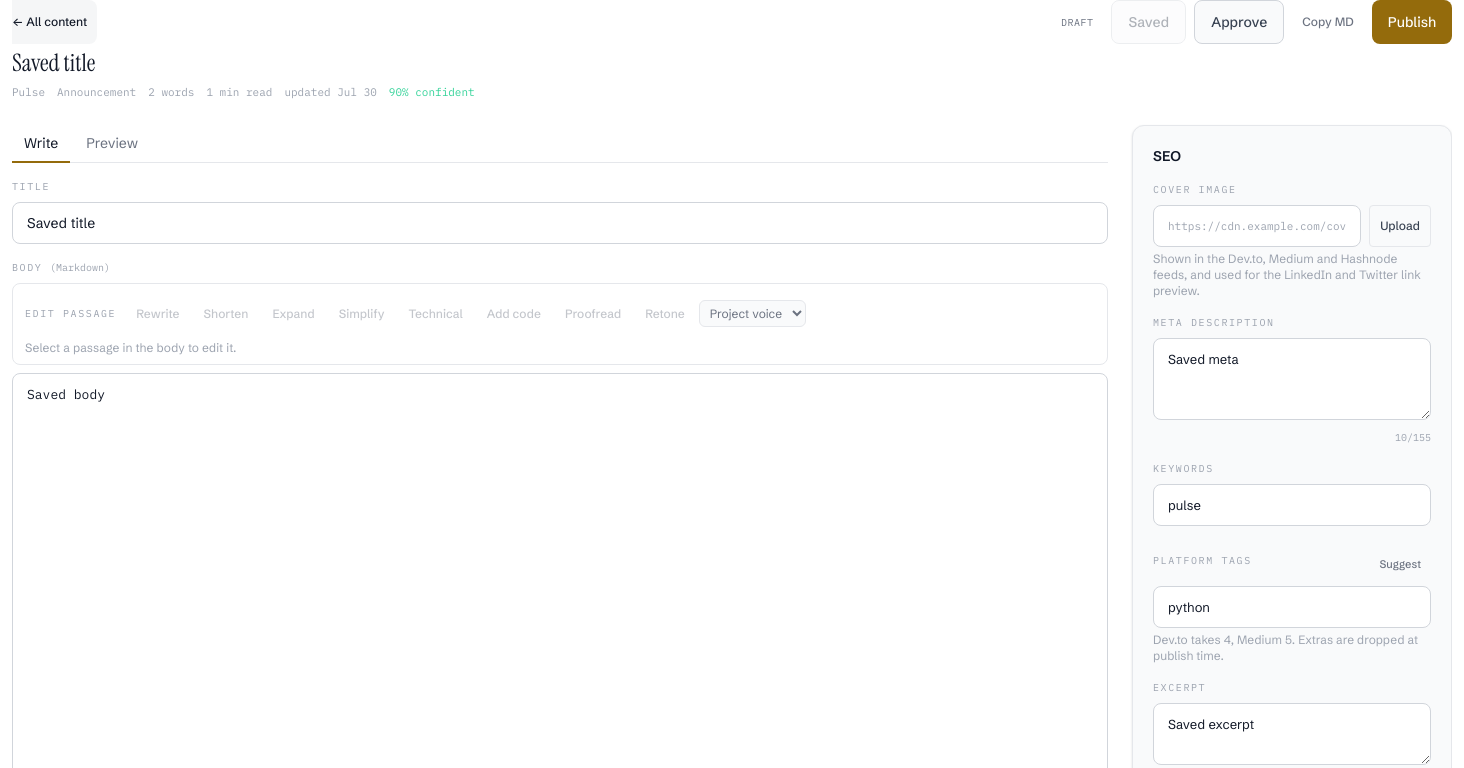
Test: recovering unsaved work › after a background refresh › keeps mirroring what is typed after it
Type "!" into the field labelled "Title".
click(560, 222); type("!")  # box [12,202,1108,244]
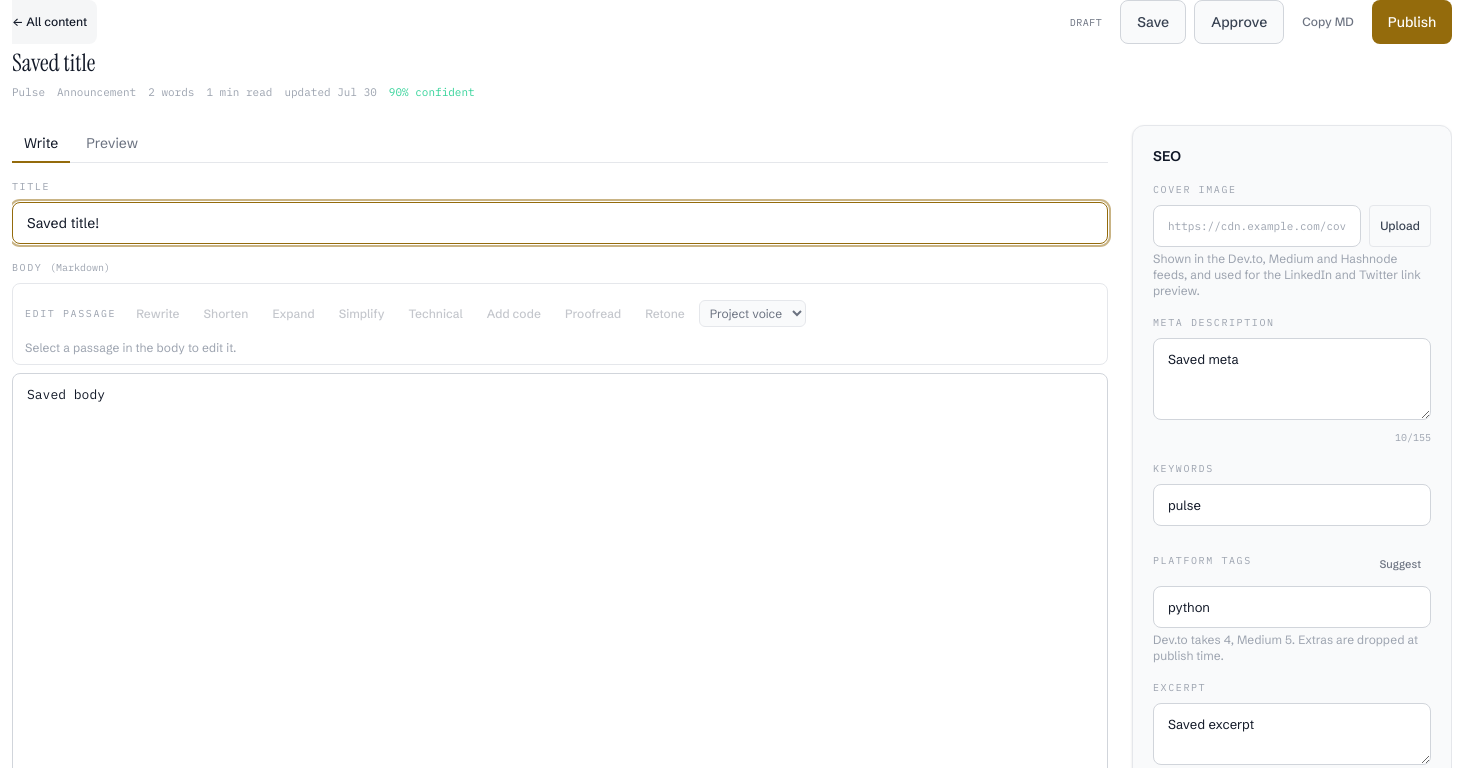
Click the button "Approve".
click(1239, 22)  # box [1194,0,1284,44]
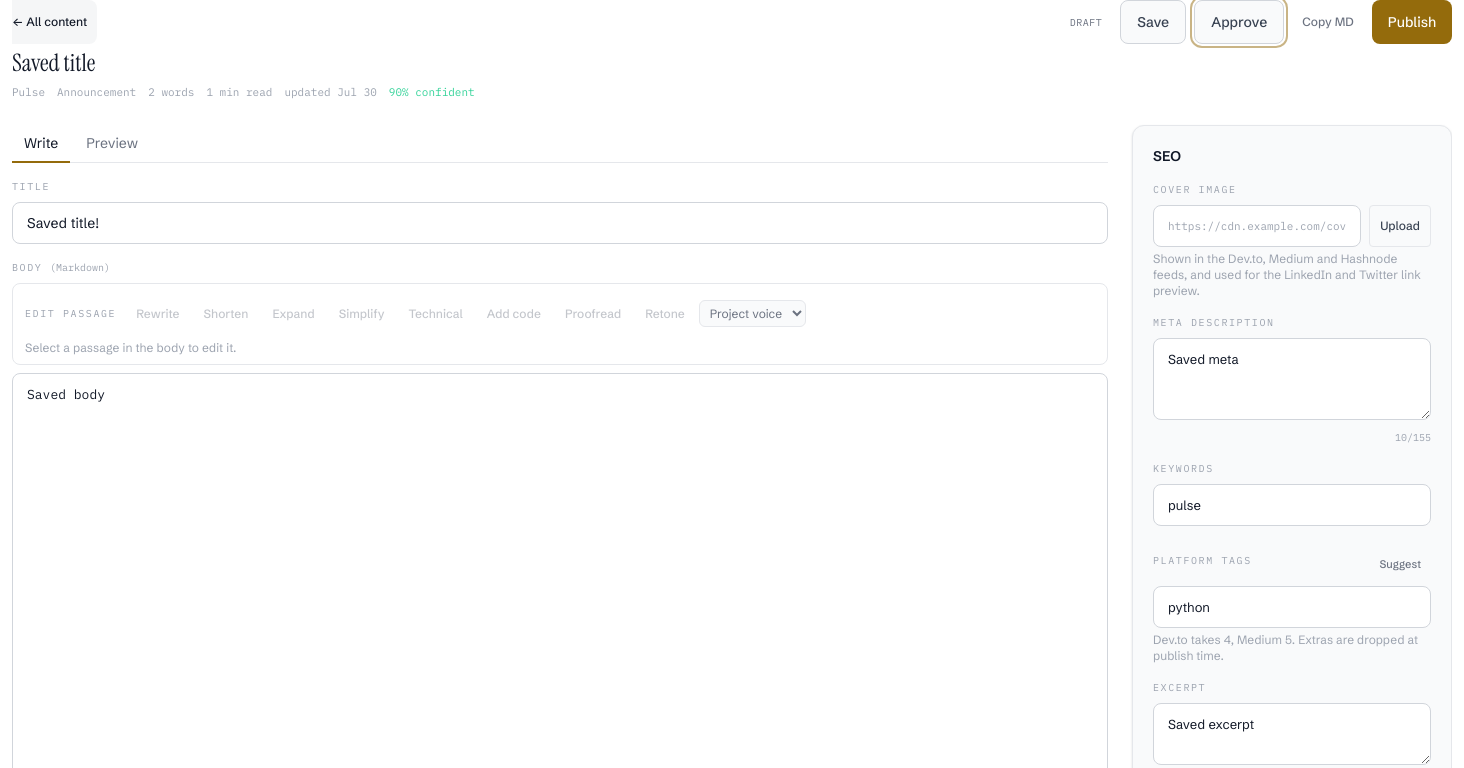
Type "?" into the field labelled "Title".
click(560, 222); type("?")  # box [12,202,1108,244]
(page scrolled)
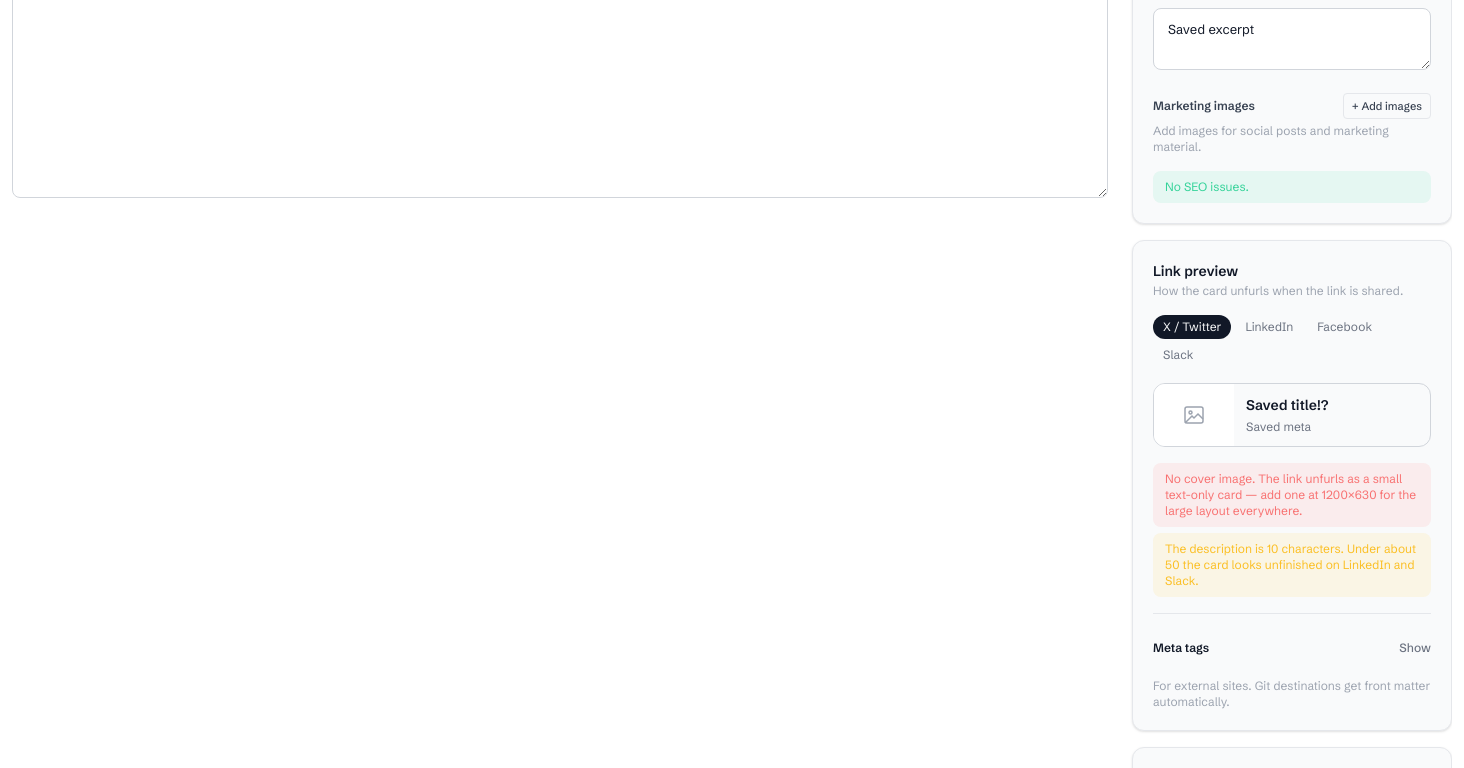
Expected: the text "Saved title!?" is shown, [1246,396,1328,414]
